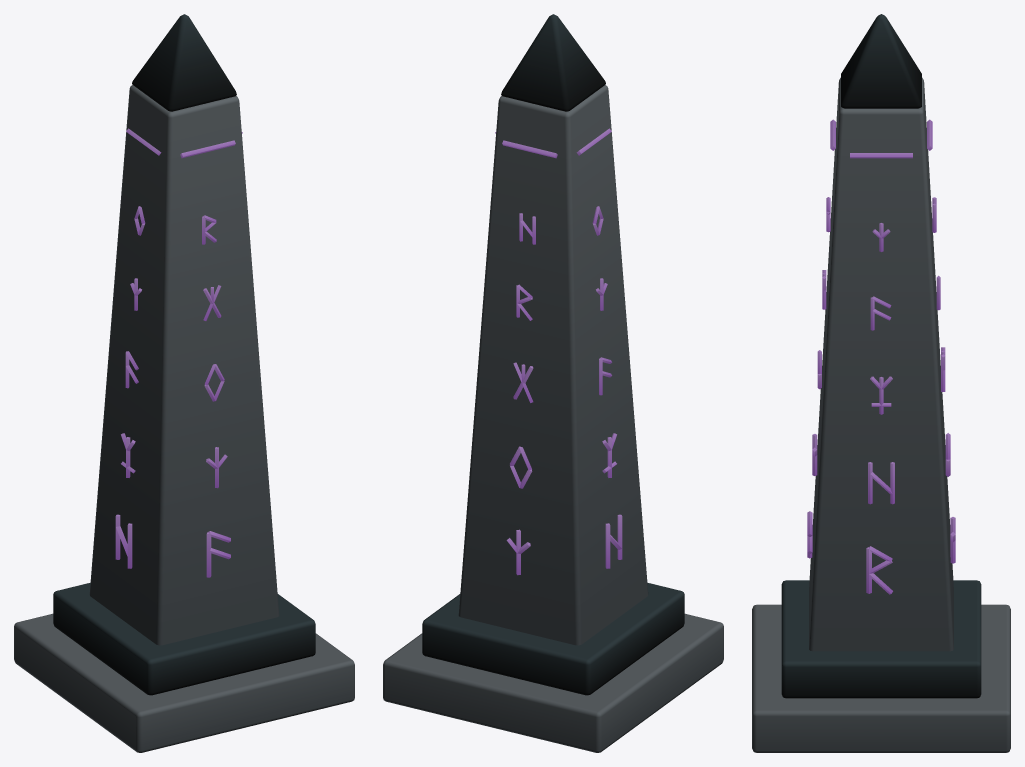
The model's file is shade_obelisk.glb.
The picture shows the model from 3 angles, left to right: view 1: azimuth 30°, elevation 25°; view 2: azimuth 150°, elevation 25°; view 3: azimuth 270°, elevation 25°; orthographic projection. The views are drawn at different scales.
Visible parts, largest first — view 1: shade_obelisk; view 2: shade_obelisk; view 3: shade_obelisk.
Boxes of the visible parts, x1,y1,x2,y2 form: shade_obelisk: (14,14,354,752); shade_obelisk: (383,14,723,752); shade_obelisk: (752,14,1010,752).
Bounding box in the file's own units: 2.2 × 6.44 × 2.2.
3 materials, 3 textured.
